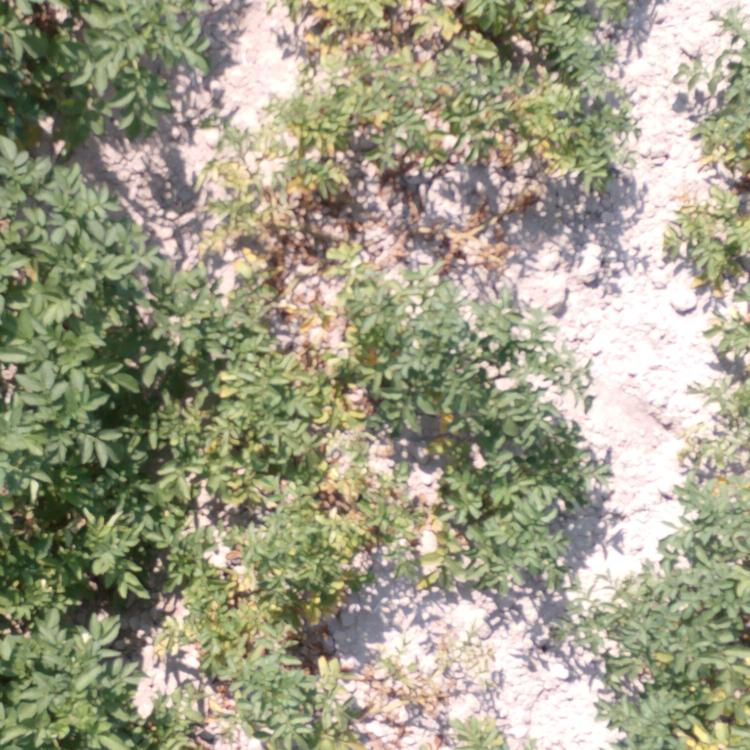healthy: (1, 351, 167, 603), (1, 118, 174, 350), (1, 1, 216, 116), (430, 298, 576, 438), (1, 604, 131, 748), (473, 441, 592, 585)
stressed: (174, 455, 466, 608), (265, 61, 623, 172), (174, 292, 421, 446), (192, 171, 466, 290), (140, 608, 370, 748), (616, 567, 750, 750), (286, 1, 649, 60), (673, 30, 747, 187), (664, 190, 747, 299), (698, 308, 750, 473), (664, 475, 750, 568), (540, 596, 614, 678), (425, 689, 504, 750)
